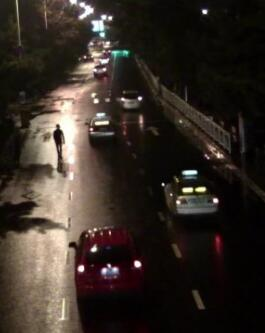car: (67, 225, 146, 300), (160, 170, 220, 218), (86, 111, 116, 141), (115, 88, 145, 110), (80, 50, 95, 63), (94, 63, 107, 75)
